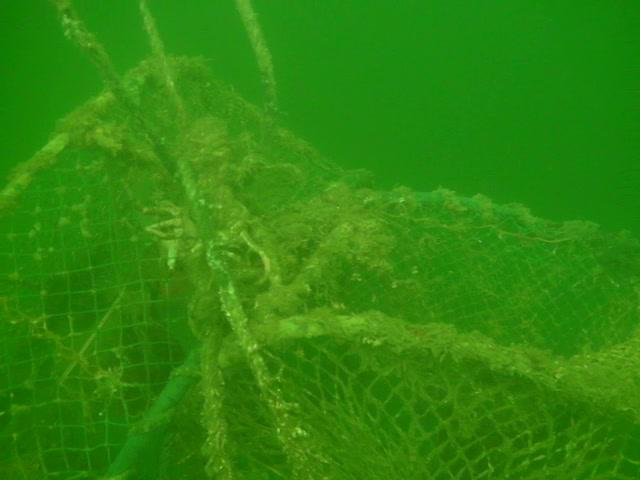spring fish trap: (0, 53, 640, 480)
